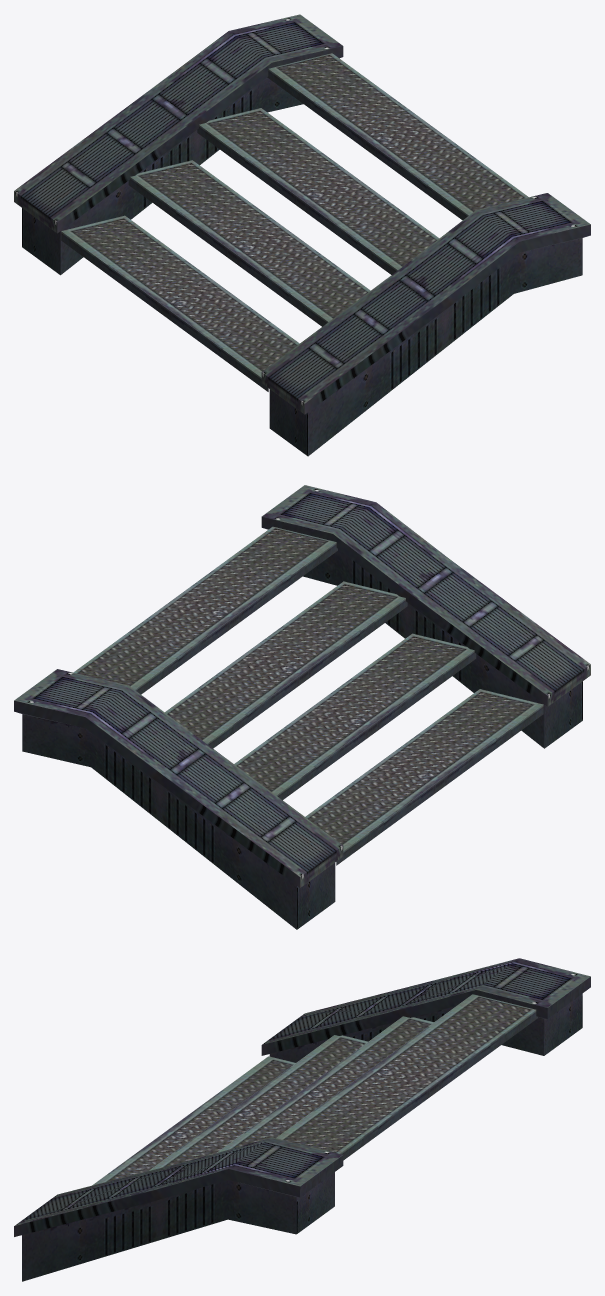
Rendered from yw_huanghunbianjing_louti01.FBX.
3 renders of one model, top to bottom at view 1: azimuth 30°, elevation 25°; view 2: azimuth 150°, elevation 25°; view 3: azimuth 330°, elevation 25°, orthographic.
Visible parts, largest first — view 1: yw_huanghunbianjing_louti01; view 2: yw_huanghunbianjing_louti01; view 3: yw_huanghunbianjing_louti01.
Part boxes in pixels (x1=…): yw_huanghunbianjing_louti01: x1=14, y1=14, x2=590, y2=456; yw_huanghunbianjing_louti01: x1=14, y1=485, x2=590, y2=929; yw_huanghunbianjing_louti01: x1=14, y1=958, x2=590, y2=1281.
Size of the model in its own units: 364 by 202 by 641.
1 material, 1 textured.
